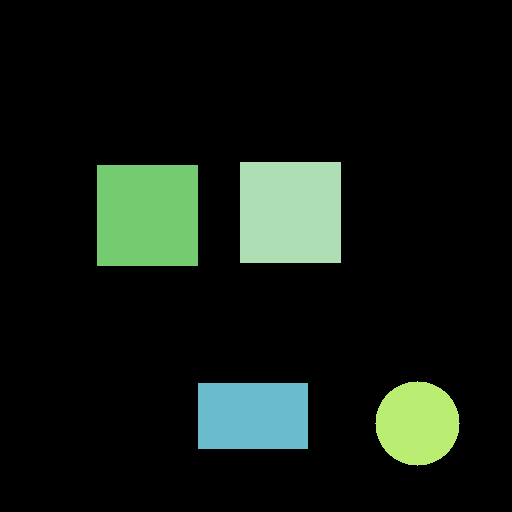circle: (375, 381, 459, 465)
rectangle: (198, 383, 307, 448)
square: (97, 165, 197, 265), (240, 162, 340, 262)
